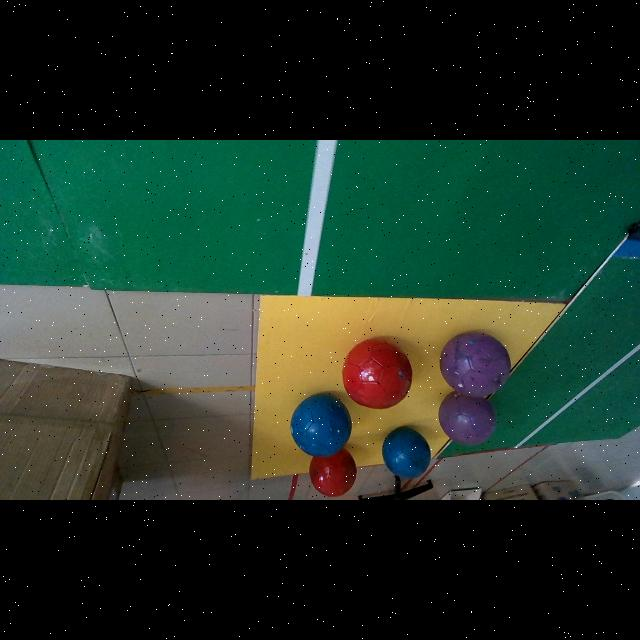B: (290, 395, 352, 457), (382, 427, 431, 479)
P: (440, 332, 510, 397), (438, 392, 495, 444)
R: (343, 339, 412, 408), (309, 449, 357, 496)
